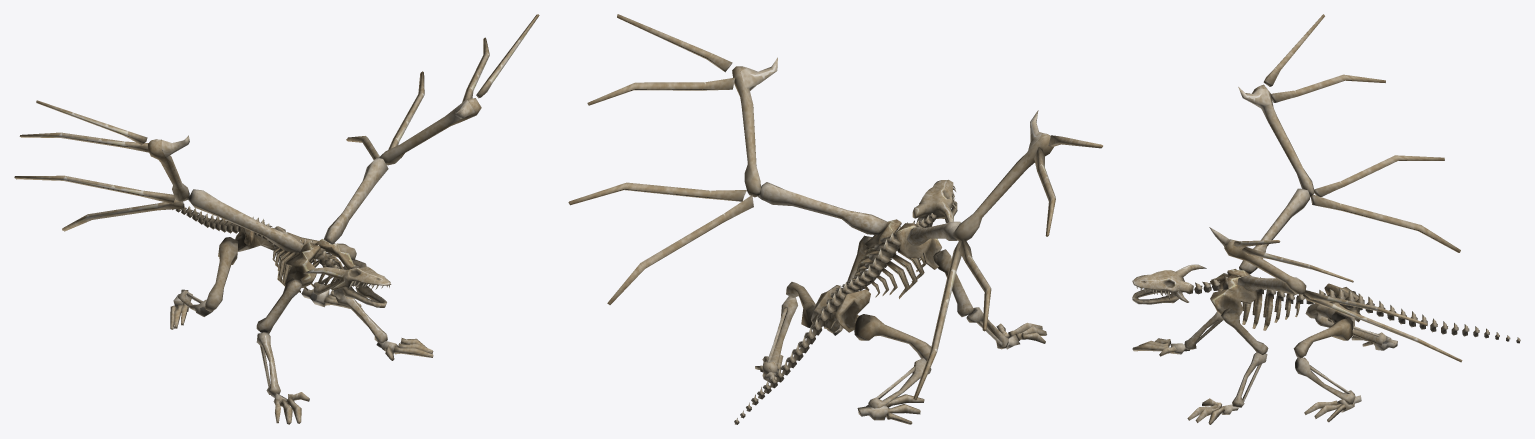
The model's file is Toon_Skeleton_01.fbx.
3 renders of one model, left to right at view 1: azimuth 30°, elevation 25°; view 2: azimuth 150°, elevation 25°; view 3: azimuth 270°, elevation 25°, orthographic. The views are drawn at different scales.
Parts seen in each view (by area): view 1: R_Wing, L_Wing, L_Wing_2, R_Wing_2, Head, Toon_Skeleton_01, R_Leg_1, R_Wing_Bone_3, R_Wing_Bone_4, R_Arm_1, R_Wing_Bone_2, Ribs (+9 smaller); view 2: Toon_Skeleton_01, L_Wing, L_Wing_2, R_Wing_2, R_Wing, L_Wing_Bone_3, L_Wing_Bone_4, Hip, Ribs, R_Leg_1, Head, L_Wing_Bone_2 (+11 smaller); view 3: Toon_Skeleton_01, L_Wing, R_Wing_2, Head, R_Wing, R_Wing_Bone_4, L_Wing_2, Ribs, R_Wing_Bone_3, L_Leg_1, L_Wing_Bone_4, R_Wing_Bone_2 (+13 smaller).
Boxes of the visible parts, x1=… form: R_Wing: x1=188, y1=189, x2=320, y2=288; L_Wing: x1=315, y1=157, x2=388, y2=269; L_Wing_2: x1=379, y1=98, x2=481, y2=165; R_Wing_2: x1=148, y1=135, x2=189, y2=201; Head: x1=303, y1=266, x2=391, y2=290; Toon_Skeleton_01: x1=172, y1=204, x2=340, y2=280; R_Leg_1: x1=205, y1=237, x2=237, y2=311; R_Wing_Bone_3: x1=14, y1=175, x2=174, y2=203; R_Wing_Bone_4: x1=62, y1=199, x2=184, y2=231; R_Arm_1: x1=256, y1=278, x2=302, y2=333; R_Wing_Bone_2: x1=19, y1=132, x2=148, y2=152; Ribs: x1=272, y1=247, x2=343, y2=292; Toon_Skeleton_01: x1=734, y1=213, x2=936, y2=424; L_Wing: x1=758, y1=182, x2=901, y2=252; L_Wing_2: x1=732, y1=57, x2=777, y2=197; R_Wing_2: x1=952, y1=110, x2=1053, y2=241; R_Wing: x1=896, y1=221, x2=960, y2=269; L_Wing_Bone_3: x1=568, y1=182, x2=746, y2=205; L_Wing_Bone_4: x1=607, y1=195, x2=753, y2=304; Hip: x1=811, y1=285, x2=870, y2=332; Ribs: x1=852, y1=243, x2=926, y2=298; R_Leg_1: x1=854, y1=314, x2=931, y2=360; Head: x1=912, y1=179, x2=956, y2=222; L_Wing_Bone_2: x1=587, y1=77, x2=735, y2=105; Toon_Skeleton_01: x1=1187, y1=275, x2=1520, y2=343; L_Wing: x1=1210, y1=275, x2=1304, y2=316; R_Wing_2: x1=1238, y1=84, x2=1314, y2=197; Head: x1=1132, y1=264, x2=1206, y2=302; R_Wing: x1=1210, y1=188, x2=1309, y2=290; R_Wing_Bone_4: x1=1310, y1=194, x2=1460, y2=252; L_Wing_2: x1=1209, y1=227, x2=1306, y2=294; Ribs: x1=1223, y1=287, x2=1299, y2=330; R_Wing_Bone_3: x1=1314, y1=155, x2=1444, y2=196; L_Leg_1: x1=1293, y1=317, x2=1353, y2=358; L_Wing_Bone_4: x1=1303, y1=294, x2=1462, y2=362; R_Wing_Bone_2: x1=1271, y1=74, x2=1385, y2=102.
Size of the model in its own units: 72.12 by 41.82 by 54.94.
